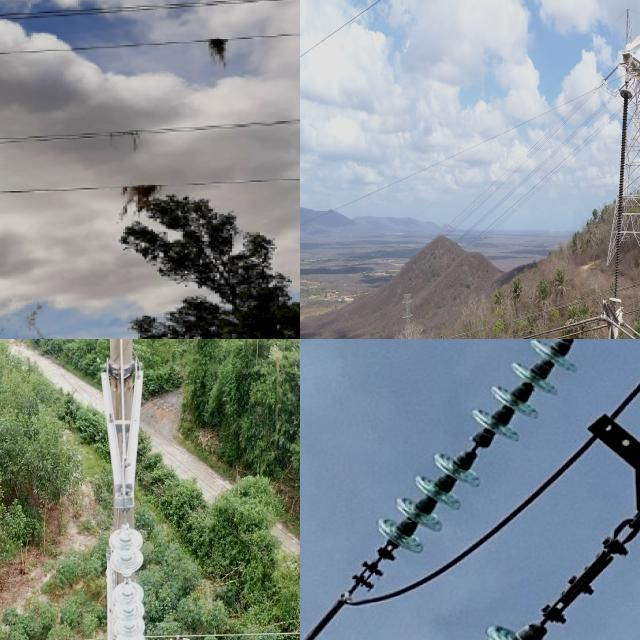植被遮挡: (201, 33, 238, 73)
正常电缆: (161, 624, 300, 640)
正常绝缘子: (300, 339, 608, 629), (467, 535, 640, 640), (606, 68, 634, 322), (106, 510, 151, 640)
绝缘子破损: (452, 434, 496, 460), (120, 573, 132, 586)
